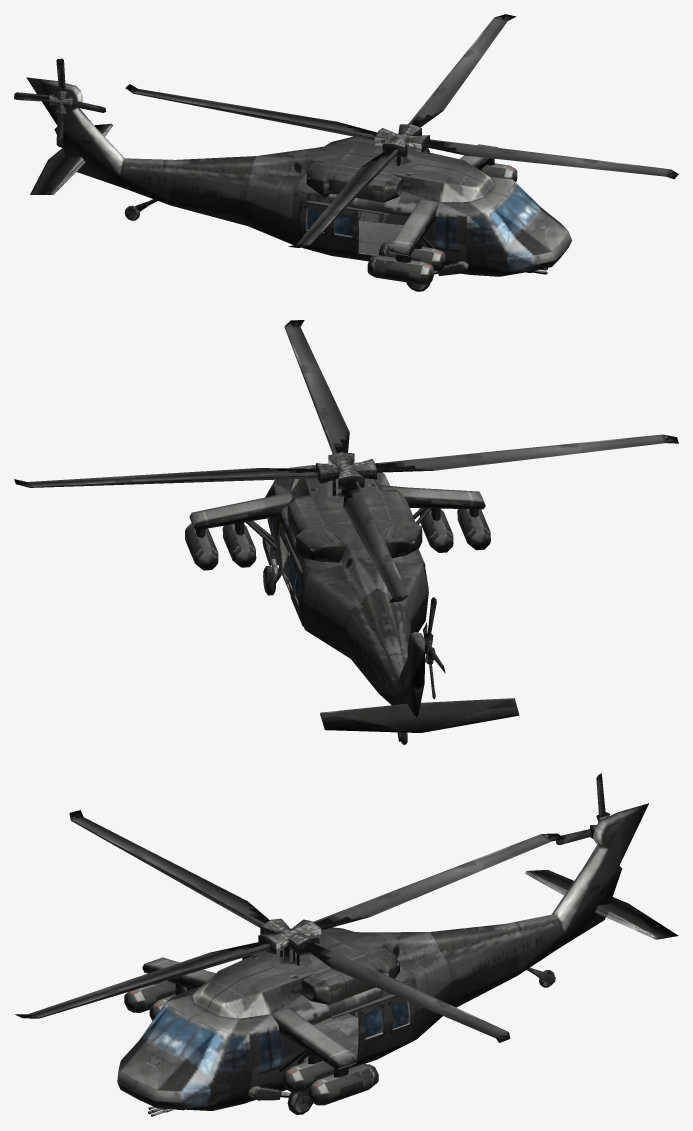
Rendered from Helicopter.FBX.
3 renders of one model, top to bottom at view 1: azimuth 30°, elevation 25°; view 2: azimuth 150°, elevation 25°; view 3: azimuth 270°, elevation 25°, orthographic. The views are drawn at different scales.
Parts seen in each view (by area): view 1: Blackhawk; view 2: Blackhawk; view 3: Blackhawk.
Part boxes in pixels (x1,y1,x2,y2): Blackhawk: [14, 14, 678, 291]; Blackhawk: [14, 320, 678, 744]; Blackhawk: [15, 773, 678, 1116].
Bounding box in the file's own units: 326 × 105 × 344.
